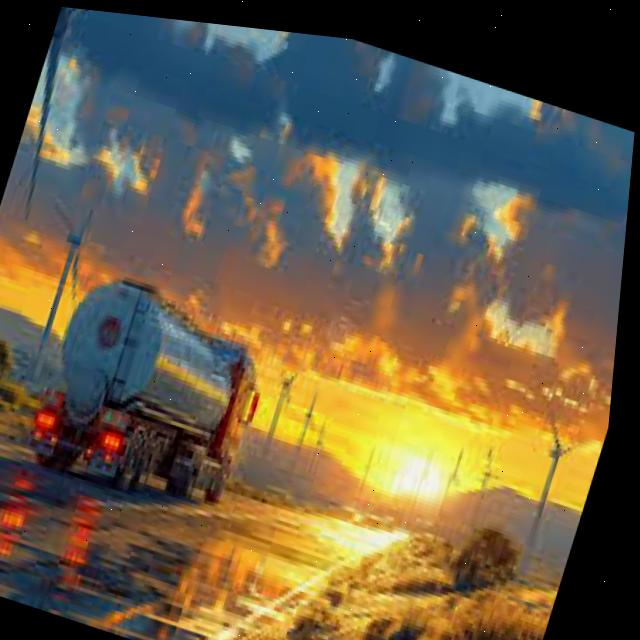truck: (27, 268, 283, 513)
